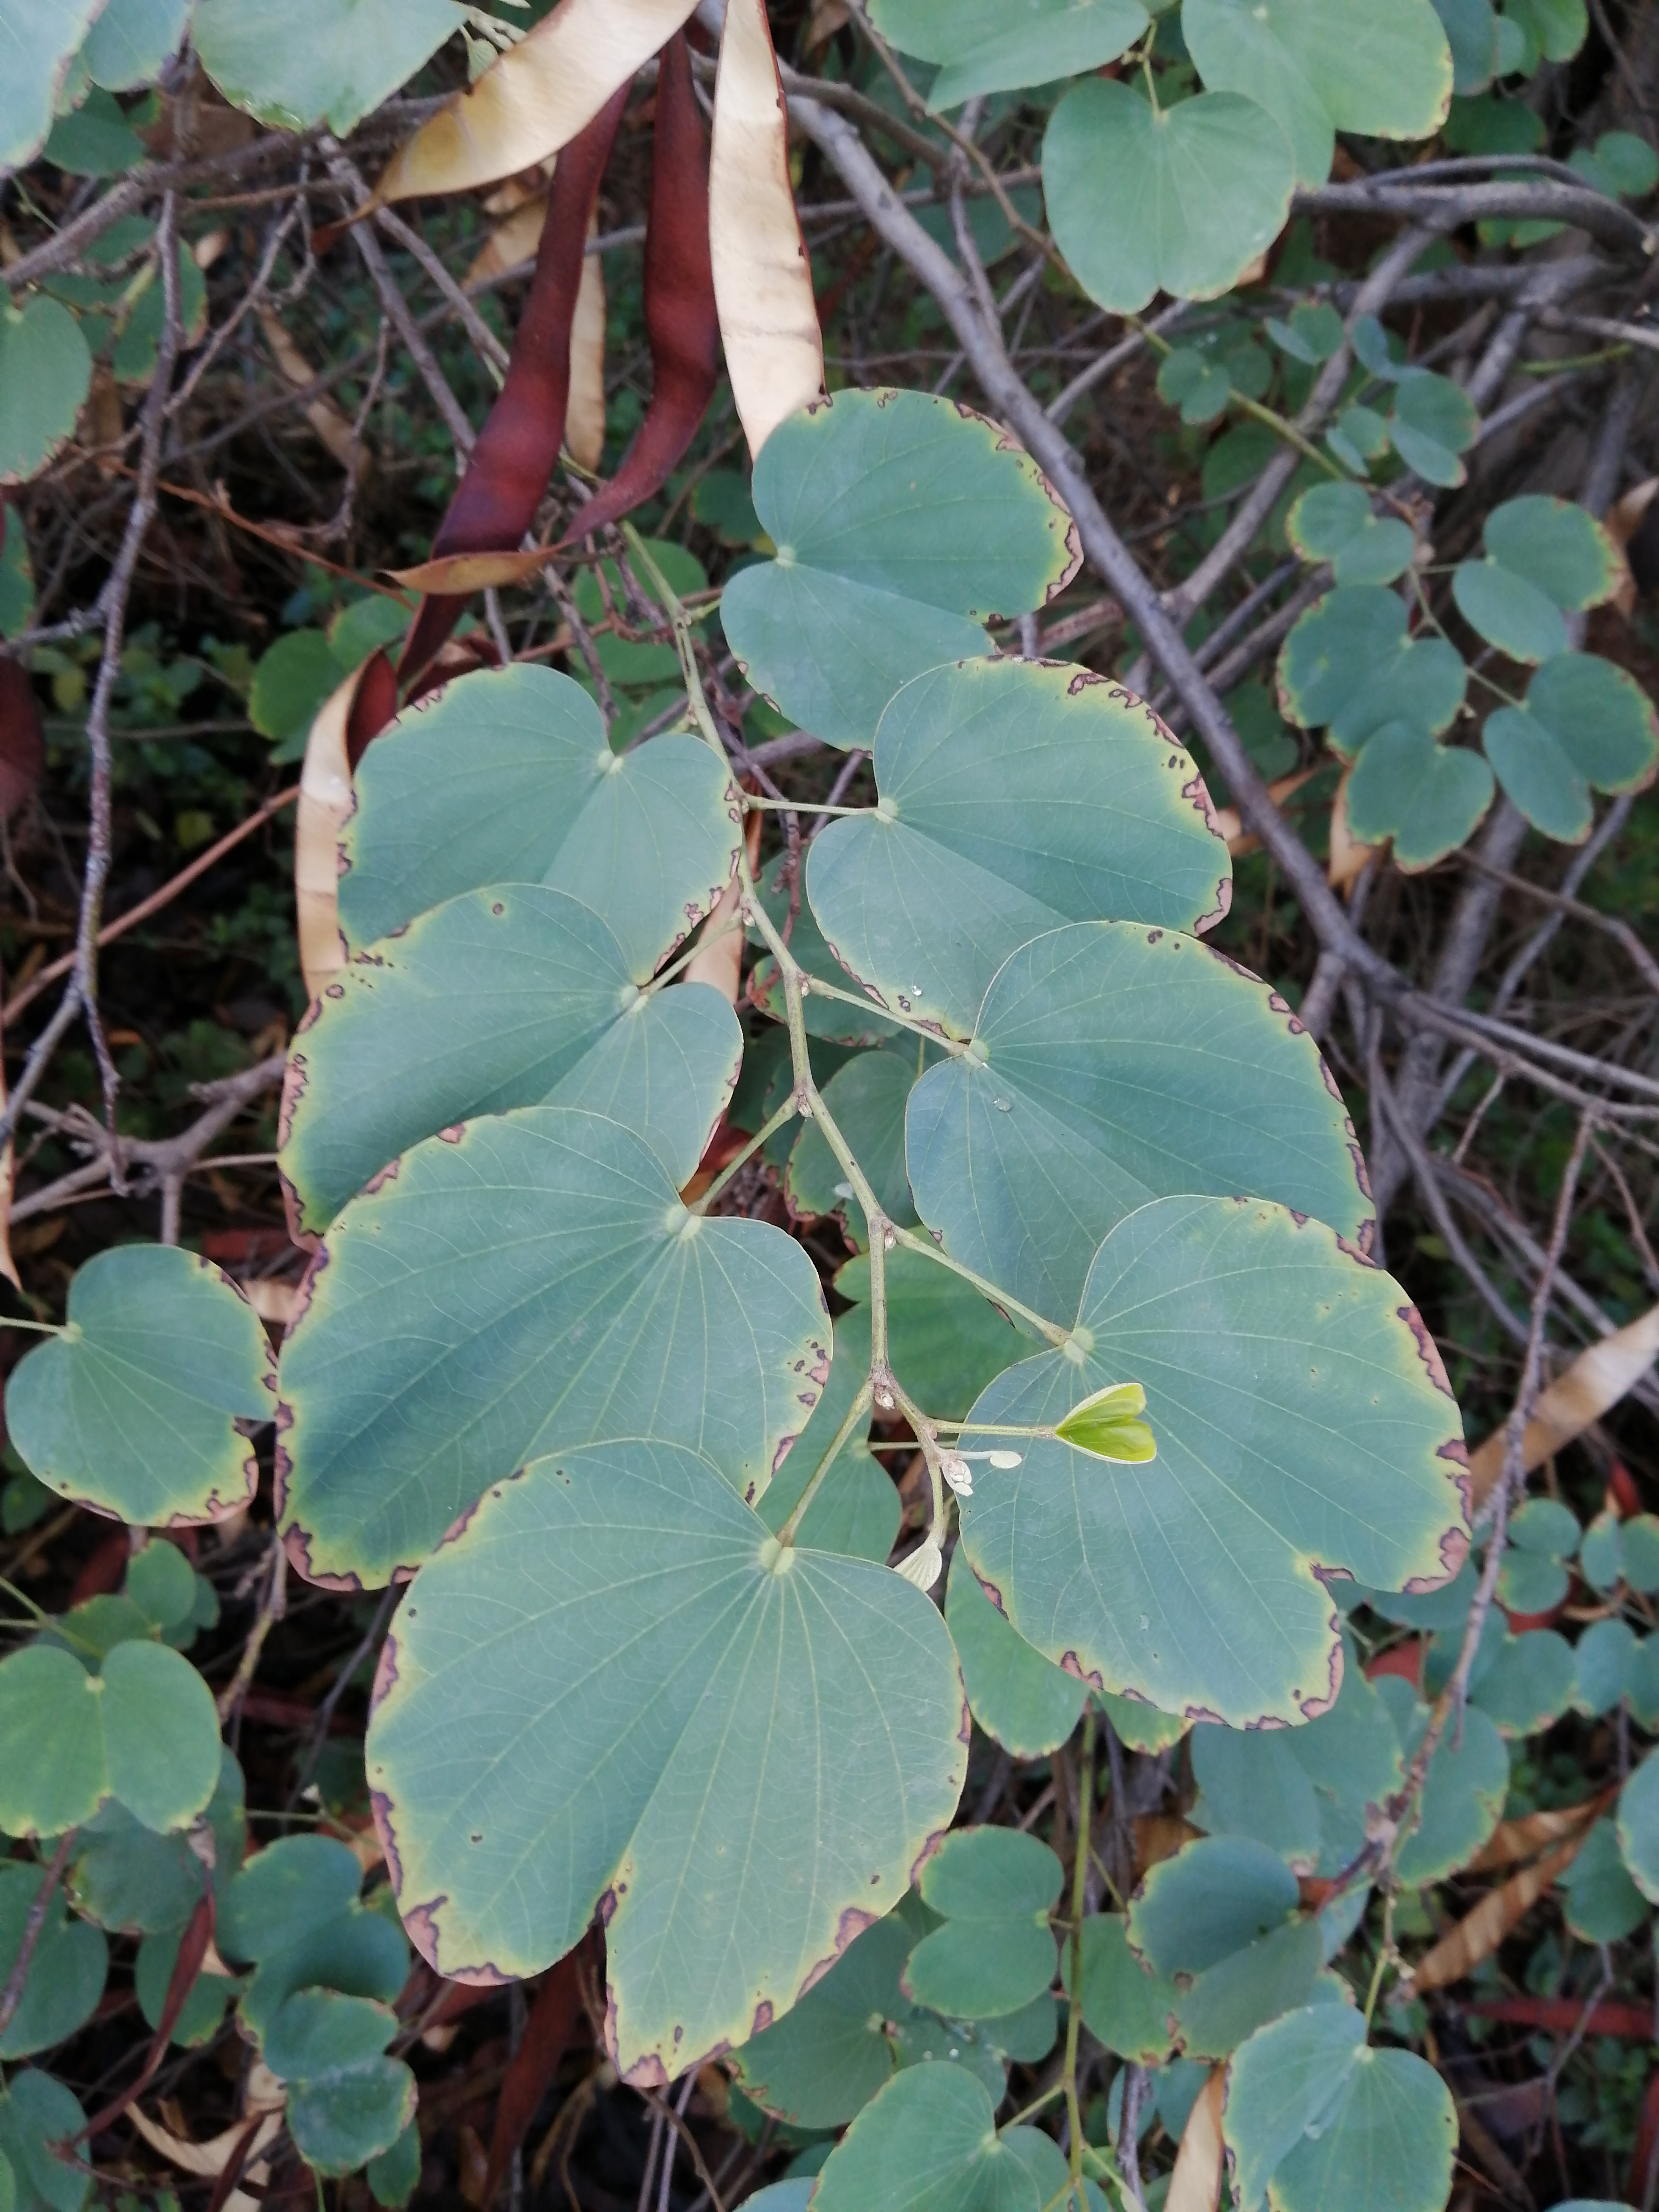healthy: (1051, 75, 1304, 347)
nothealthy: (345, 1491, 1056, 2088), (925, 1158, 1544, 1778), (179, 1132, 852, 1629), (911, 932, 1462, 1268), (228, 871, 671, 1268), (796, 691, 1243, 1035), (307, 646, 723, 991), (737, 357, 1112, 698), (17, 1167, 303, 1604)
